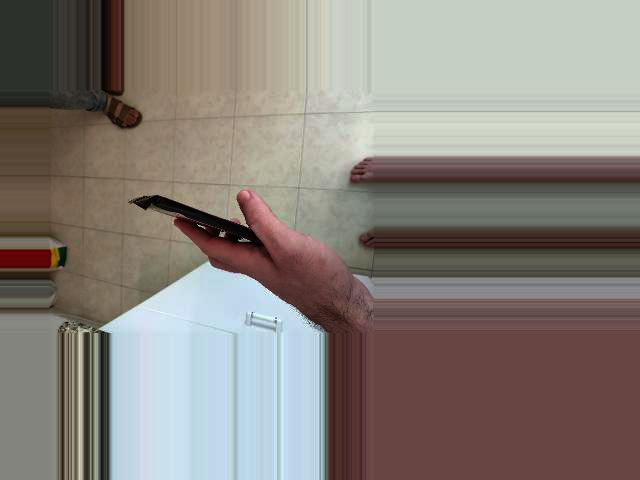chocolate: (125, 182, 287, 258)
